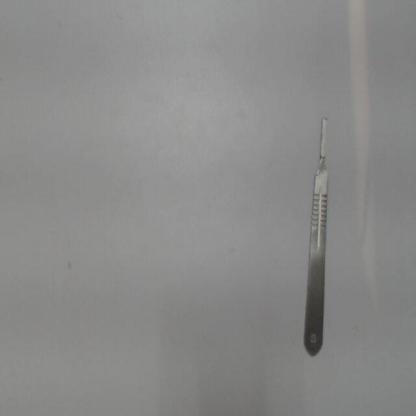No.4 BP Handle: (299, 109, 331, 363)
